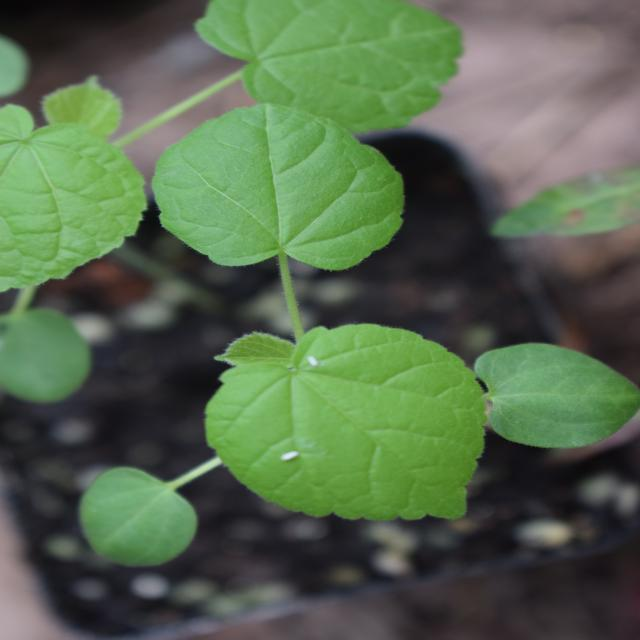abutilon theophrasti: (65, 71, 541, 604)
